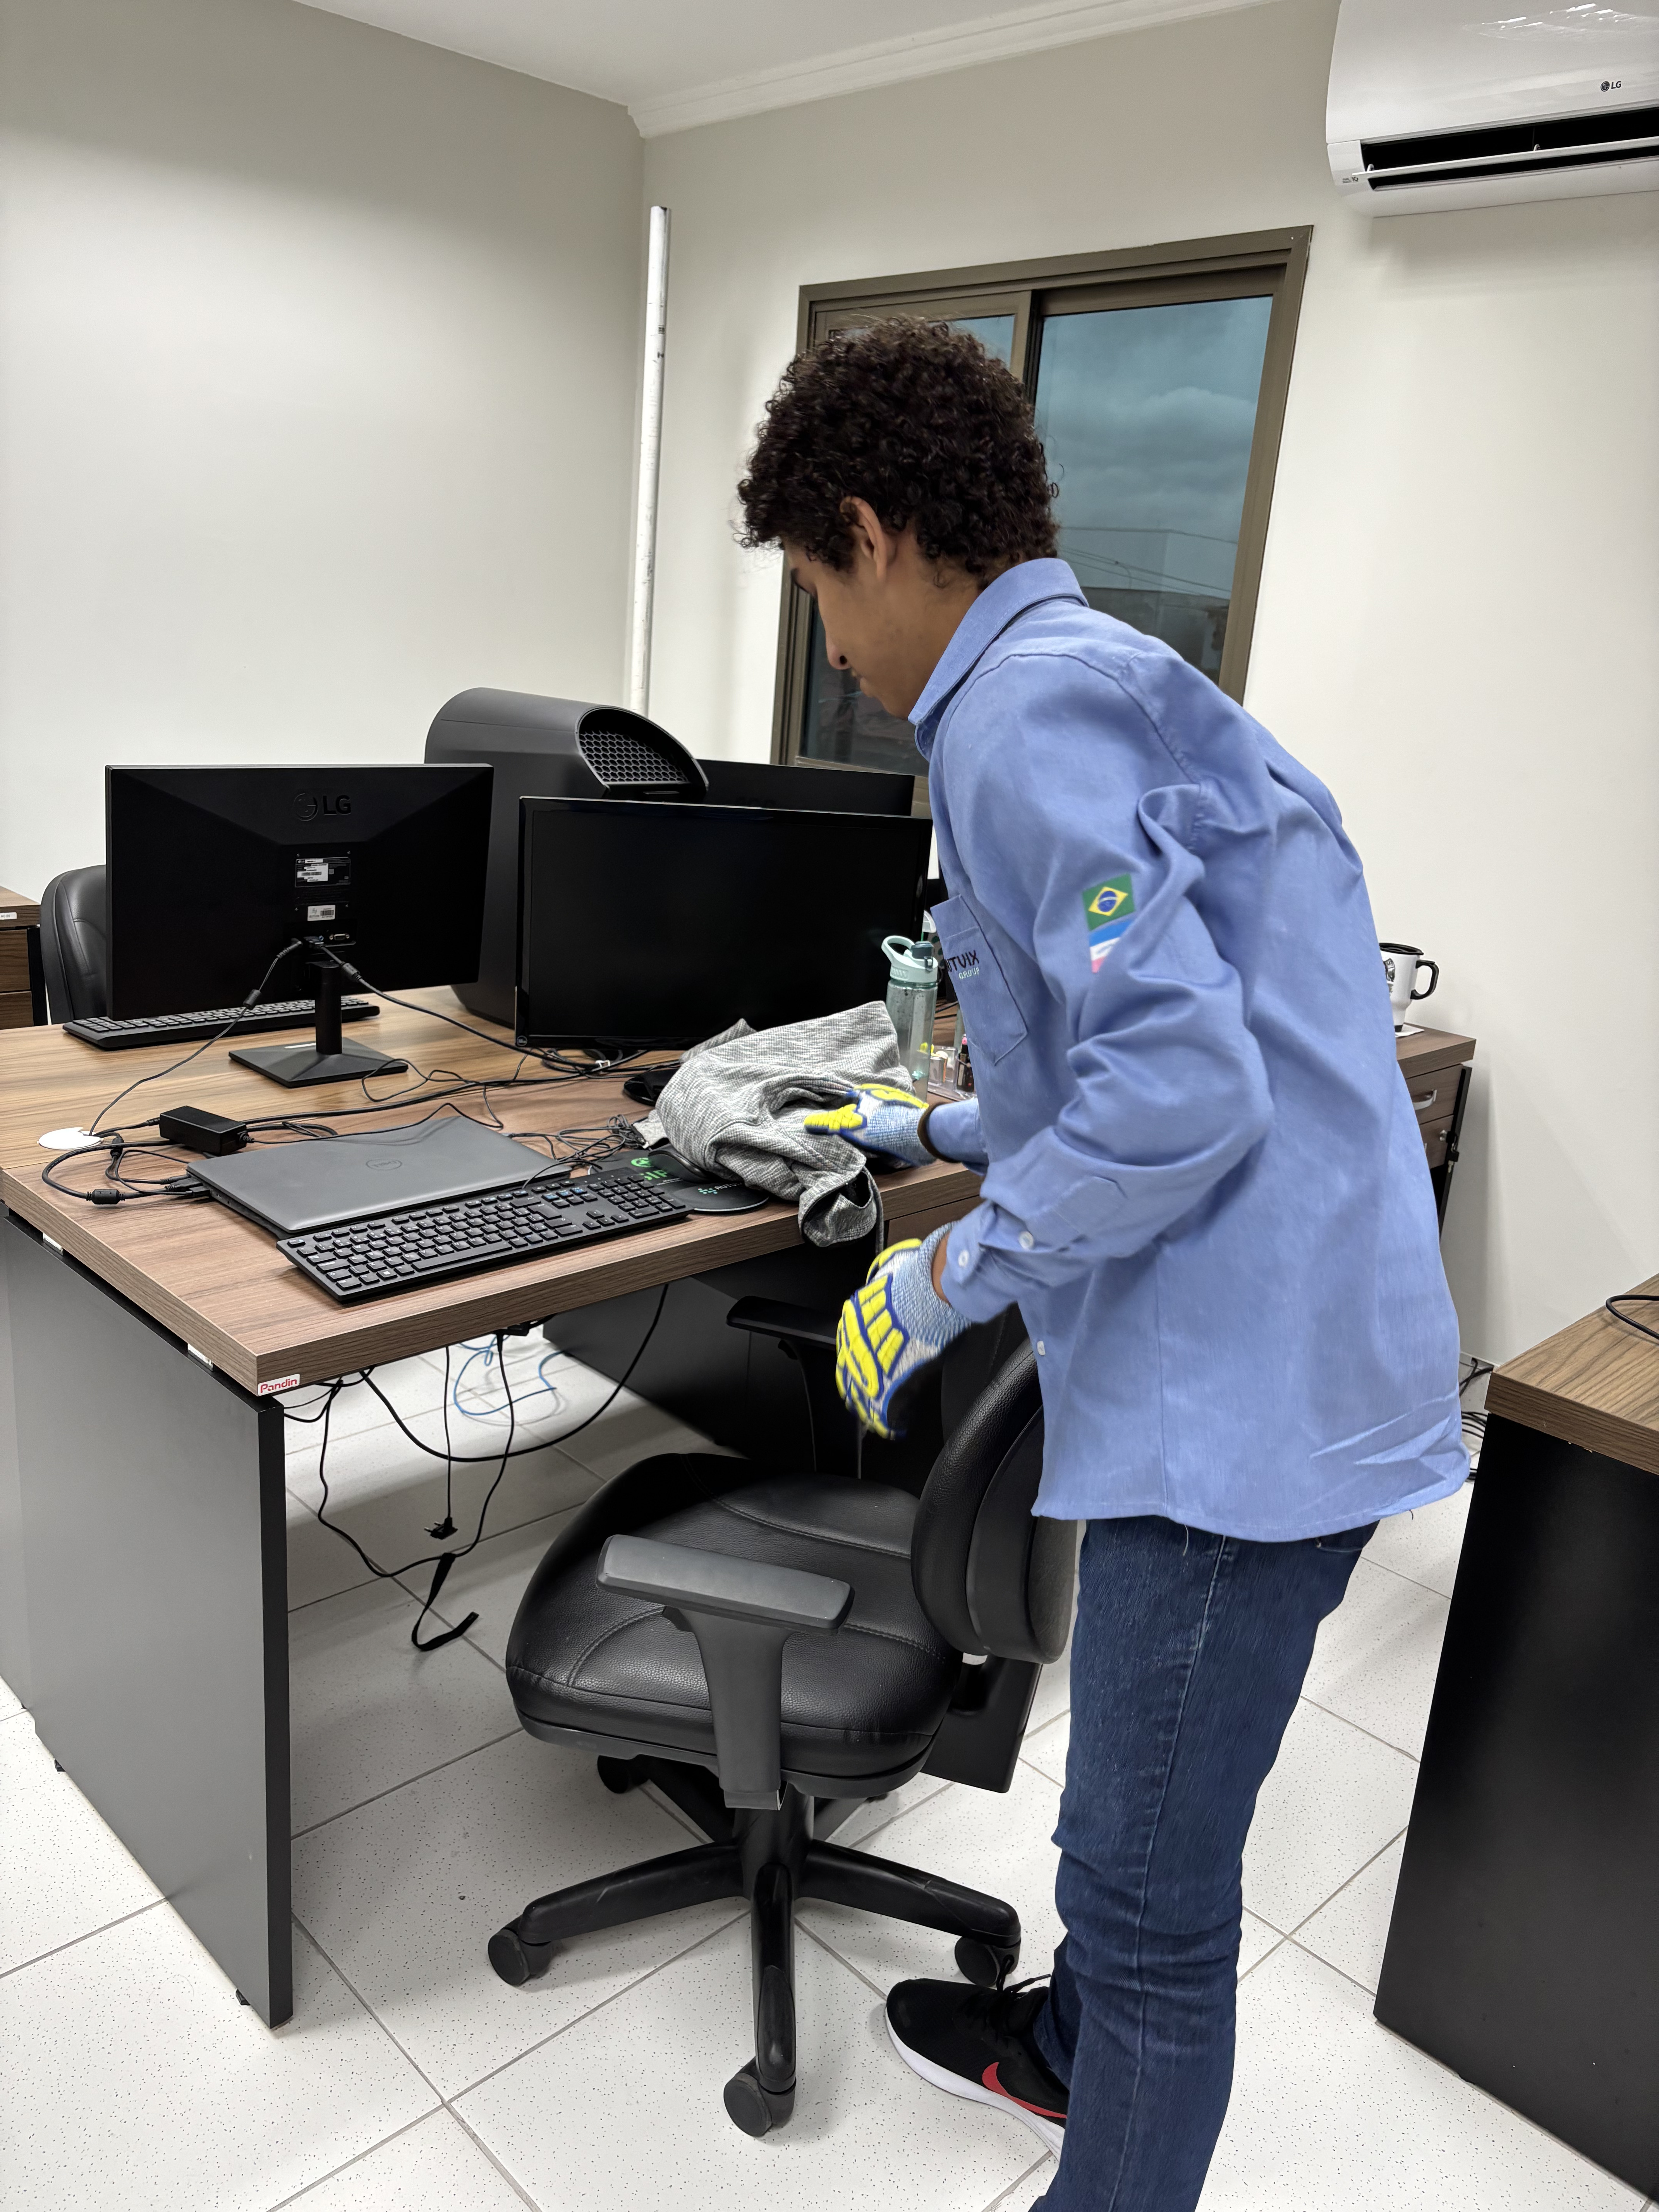Gloves: (835, 1224, 974, 1437), (805, 1078, 950, 1172)
